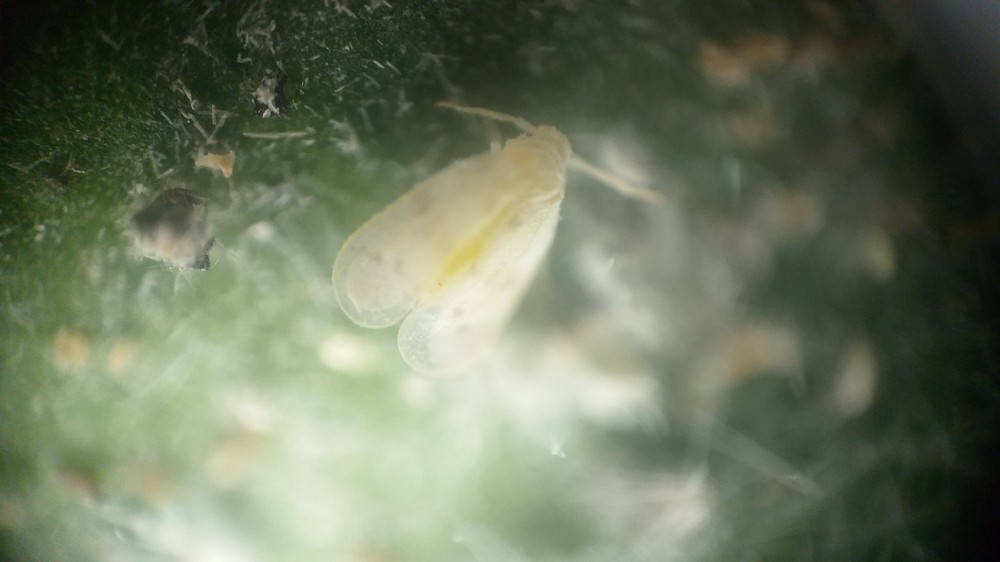Mosca Blanca: (297, 80, 683, 390)
